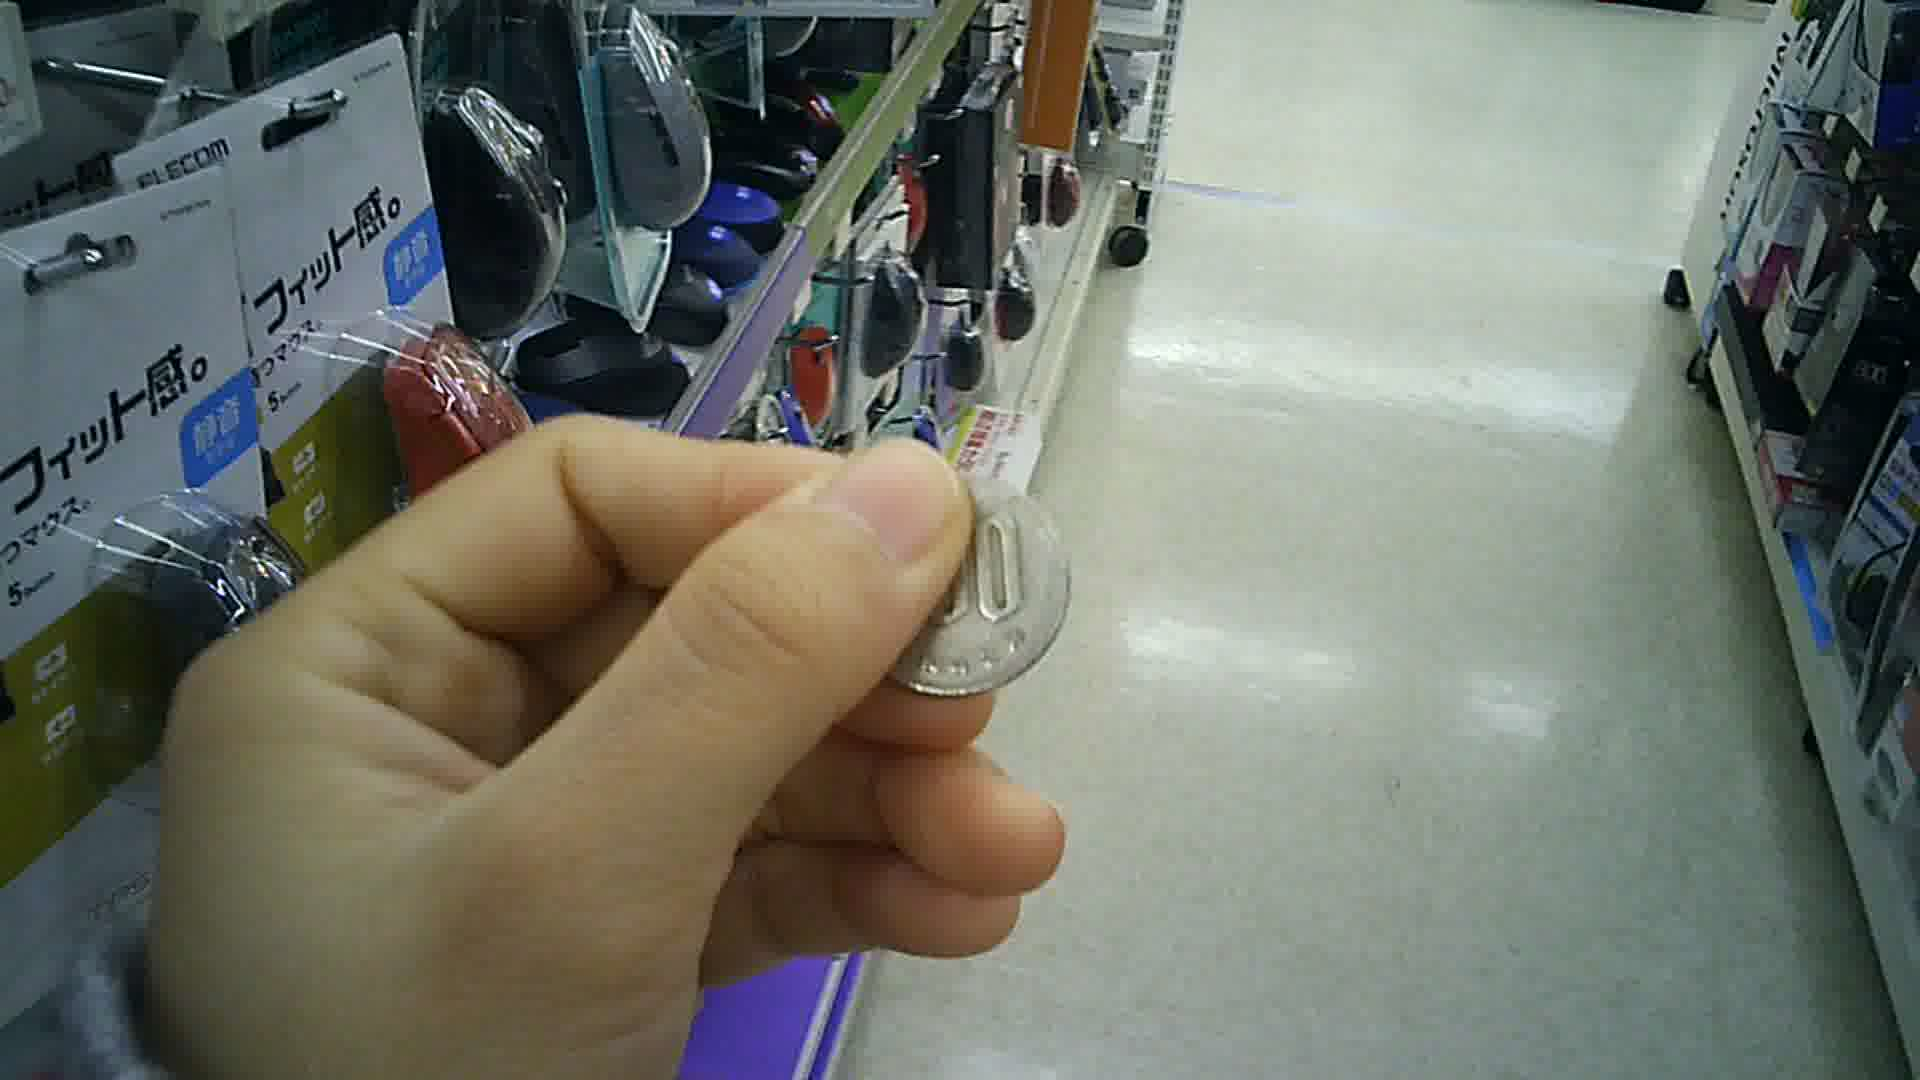100 Yen: (861, 469, 1083, 703)
